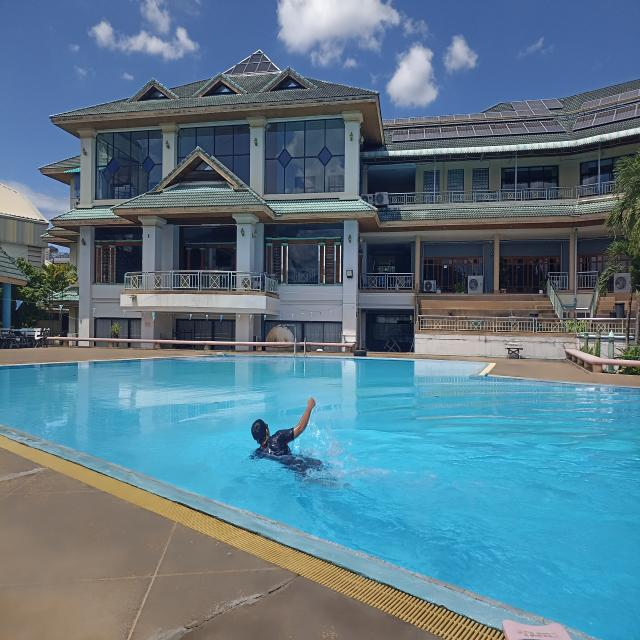Swimming: (224, 393, 358, 483)
